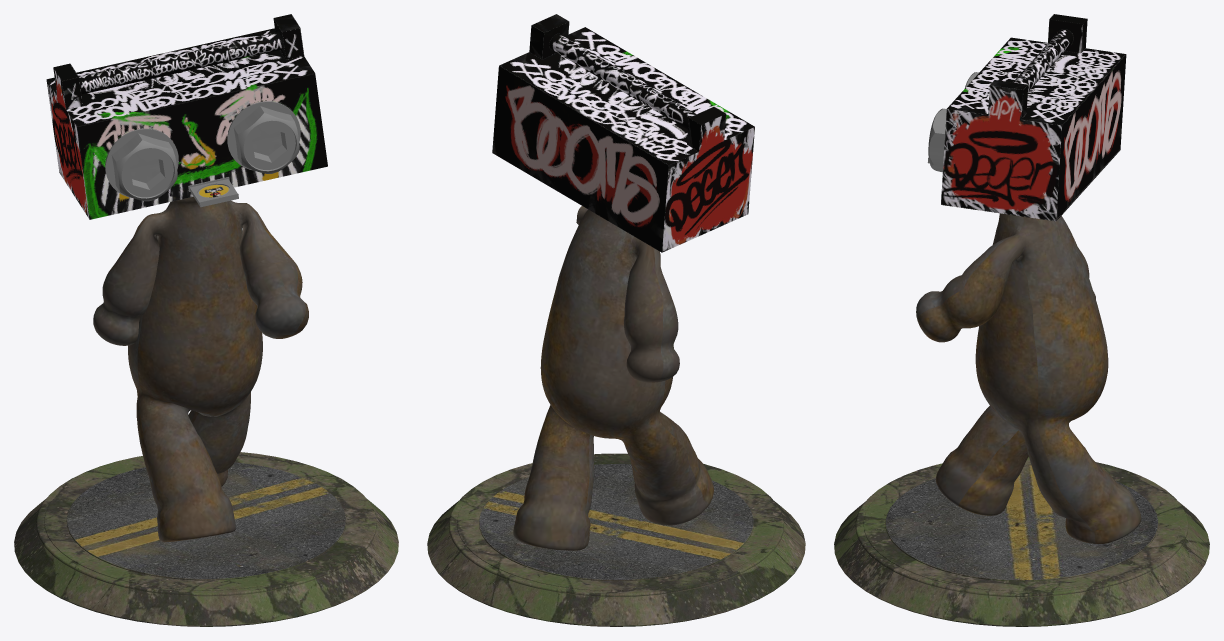
3 views of the same model, side by side, from view 1: azimuth 30°, elevation 25°; view 2: azimuth 150°, elevation 25°; view 3: azimuth 270°, elevation 25° (orthographic). The views are drawn at different scales.
Parts seen in each view (by area): view 1: BBody; view 2: BBody; view 3: BBody.
Boxes of the visible parts, bbox=[...] form: BBody: bbox=[14, 14, 398, 626]; BBody: bbox=[427, 14, 805, 626]; BBody: bbox=[834, 14, 1209, 626].
Size of the model in its own units: 1.45 by 2.12 by 1.45.
Materials: 8 (5 with a texture image).
